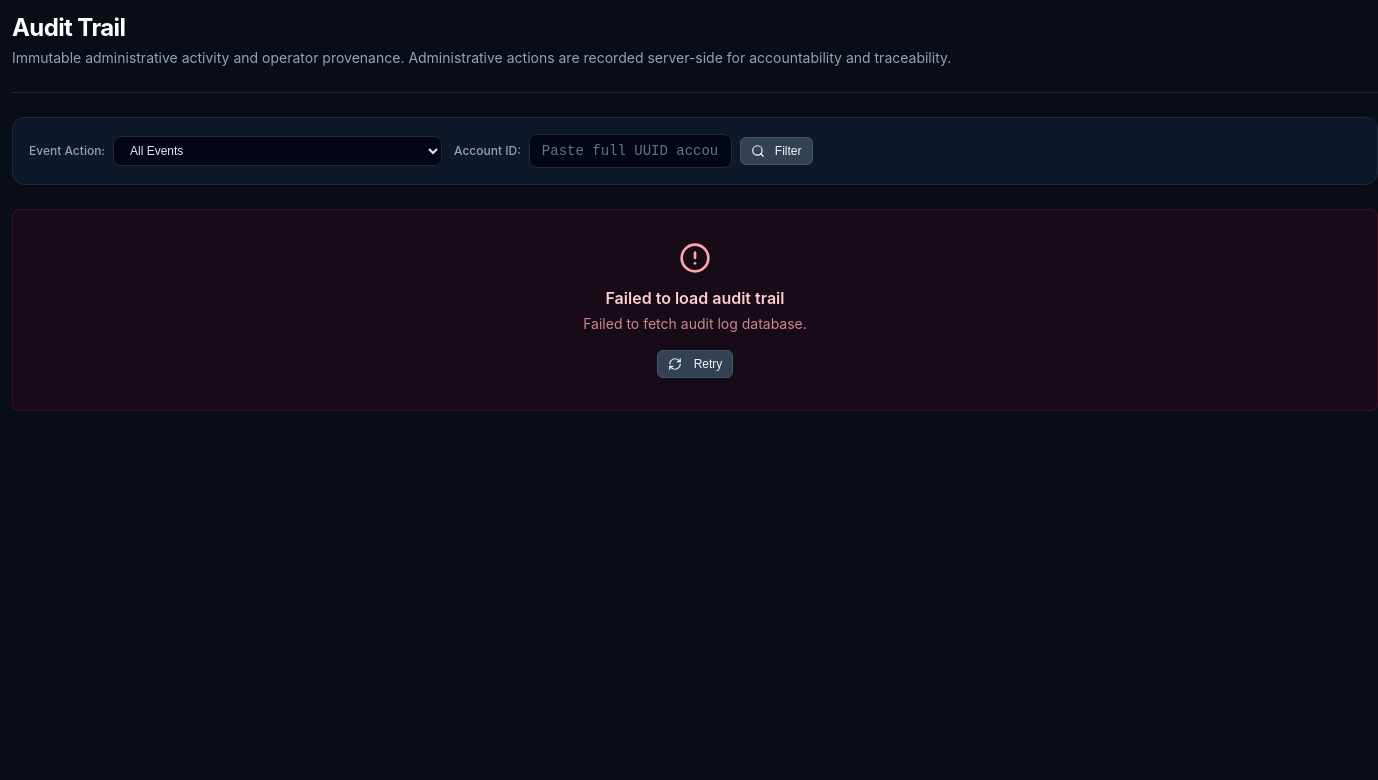
PHASE 9 — Audit Trail UI & Operator Activity Inspection Tests › 4. handles API error state with safe ErrorState and provides retry
The width and height of the screenshot is (1378, 780).
Expected: the heading "Failed to load audit trail" is shown, [606,286,784,310]
Expected: the text "Failed to fetch audit log database." is shown, [583,314,807,334]
Click the button "Retry" at coordinates (695, 364), box [657,350,733,378]
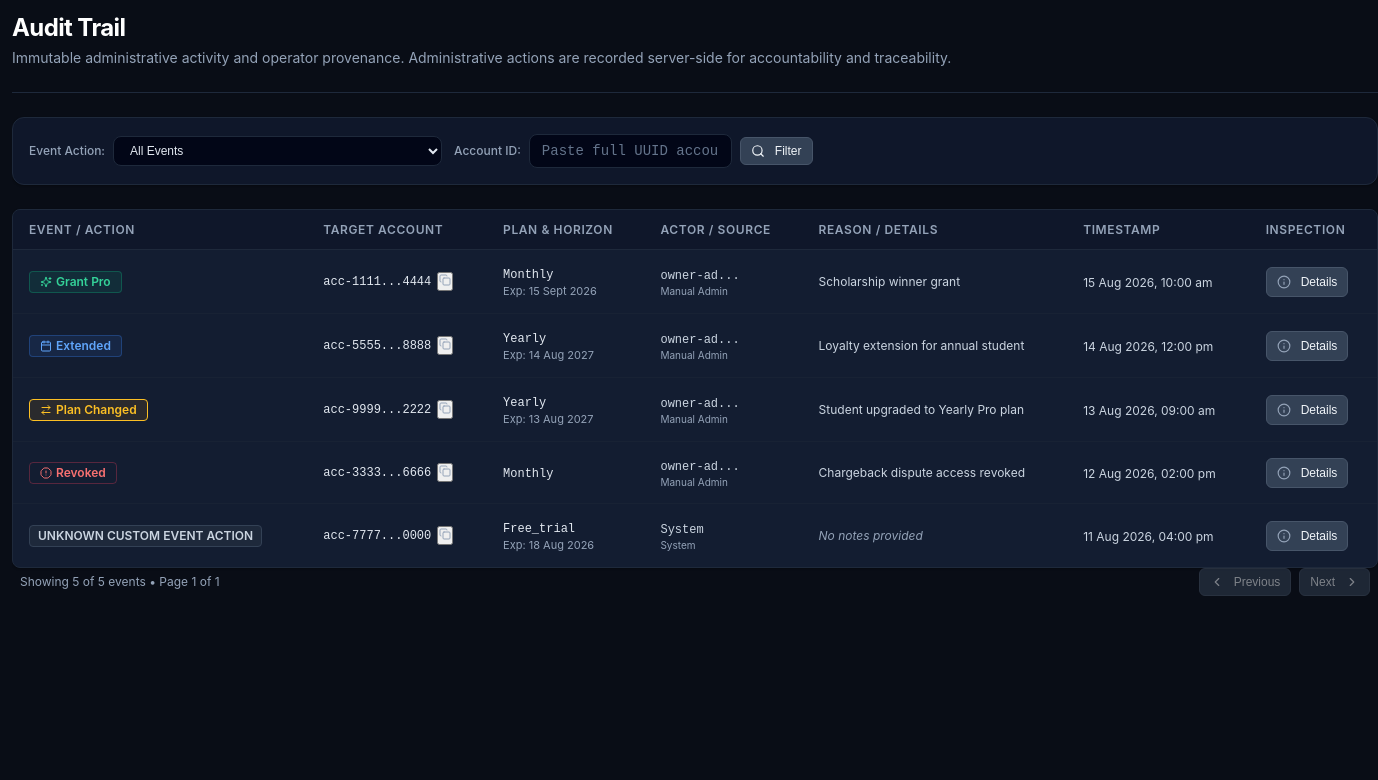
Expected: the text "Grant Pro" is shown, [29,270,122,292]
